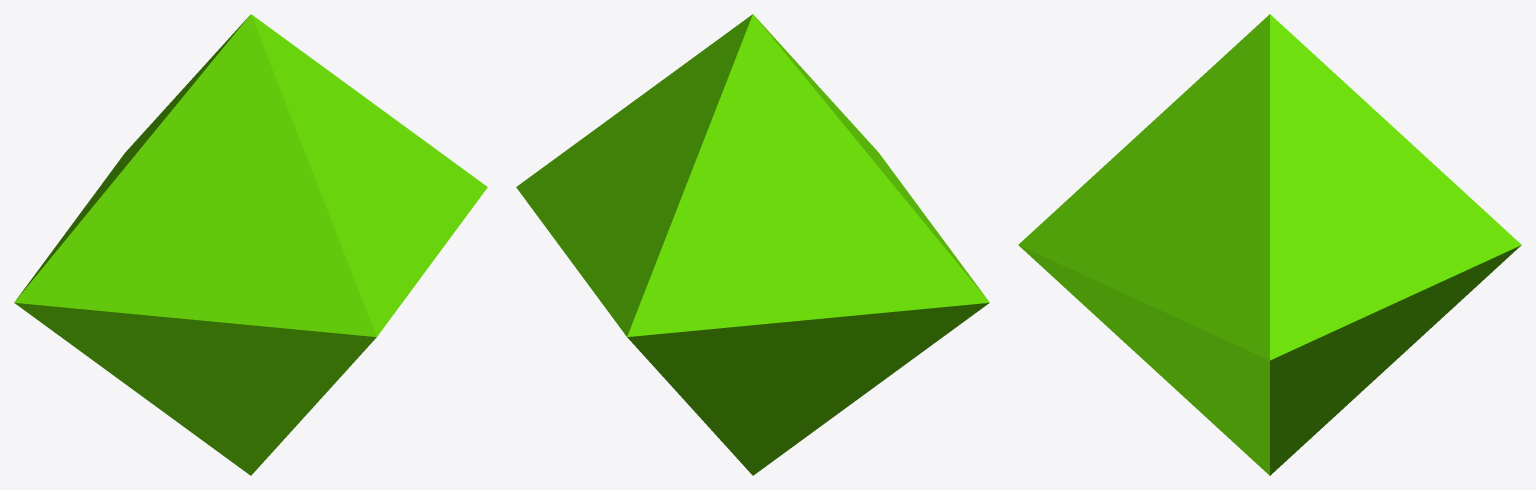
The picture shows the model from 3 angles, left to right: view 1: azimuth 30°, elevation 25°; view 2: azimuth 150°, elevation 25°; view 3: azimuth 270°, elevation 25°; orthographic projection.
Parts seen in each view (by area): view 1: pPyramid3; view 2: pPyramid3; view 3: pPyramid3.
Part boxes in pixels (x1,y1,x2,y2): pPyramid3: (14,14,487,475); pPyramid3: (516,14,989,475); pPyramid3: (1018,14,1521,475).
Bounding box in the file's own units: 1.22 × 1.13 × 1.12.
